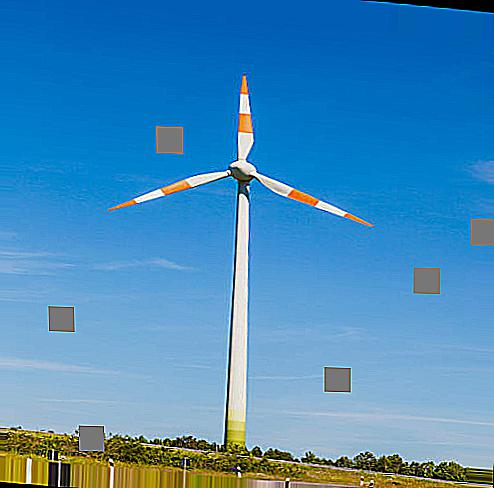wind turbine: (108, 73, 374, 454)
